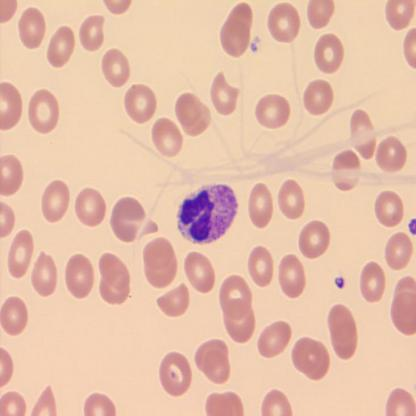Segmented neutrophil: (173, 180, 240, 247)
